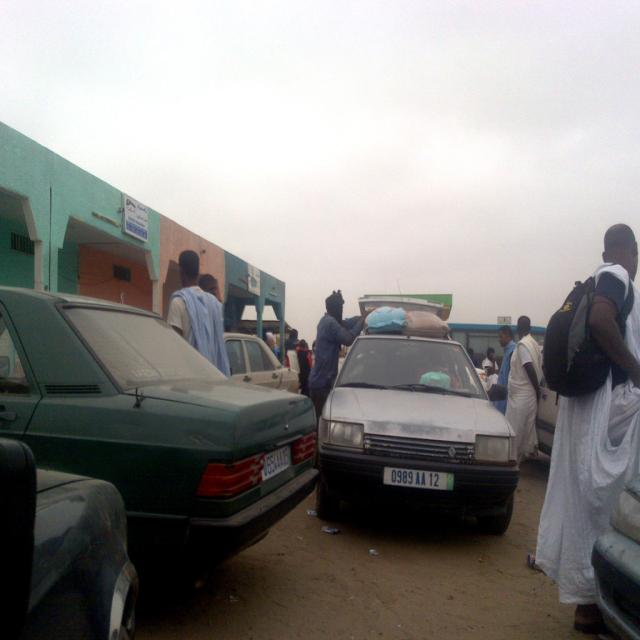car: (316, 288, 519, 534)
